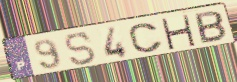4: (103, 25, 127, 60)
9: (33, 38, 64, 71)
B: (193, 9, 228, 46)
C: (127, 22, 165, 55)
H: (159, 13, 197, 50)
S: (64, 31, 98, 67)
